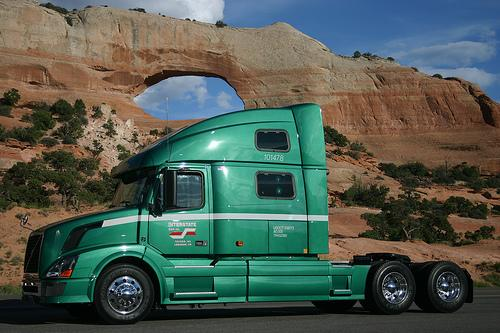truck: (20, 102, 475, 326)
